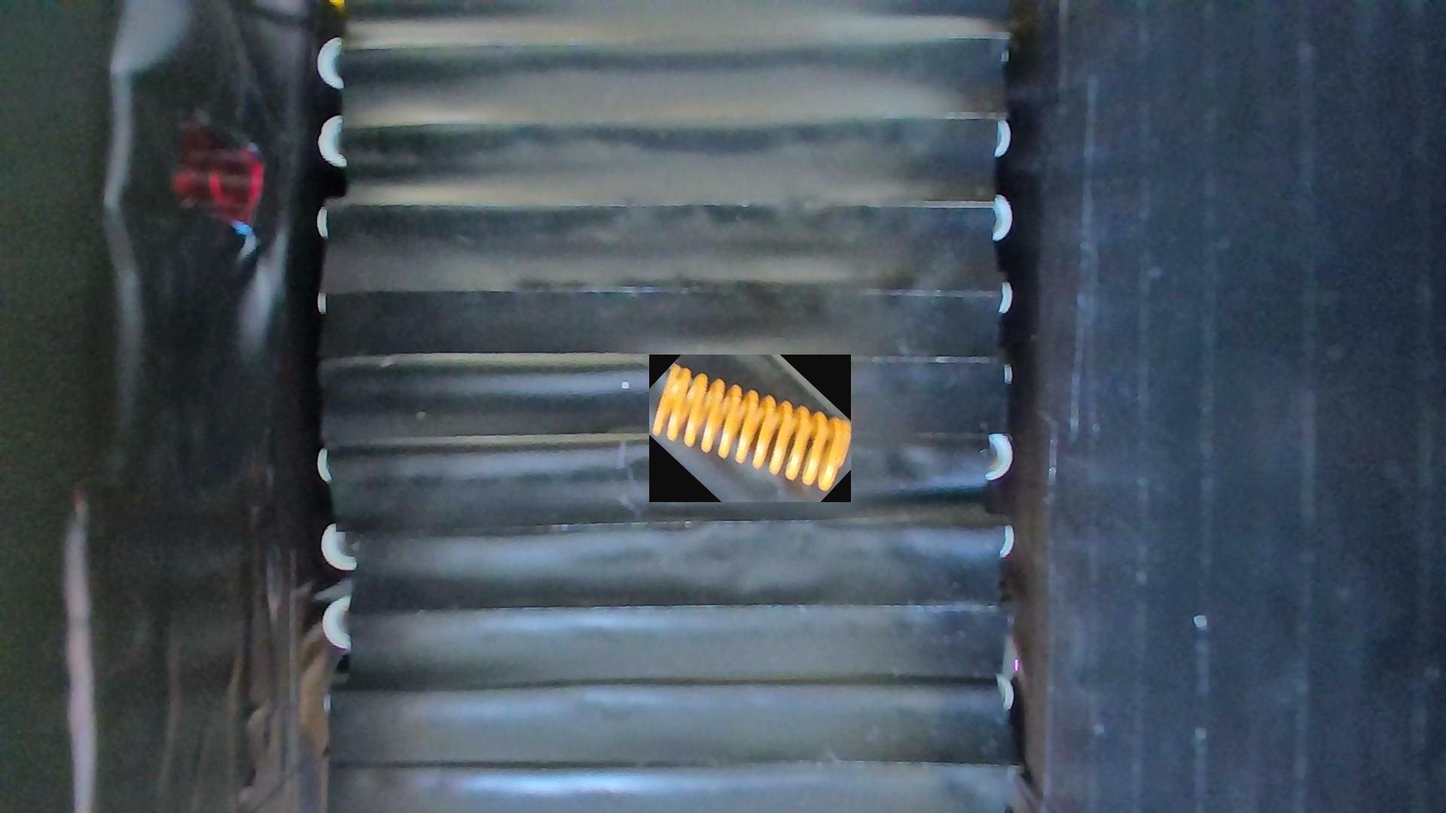spring: (650, 354, 852, 502)
